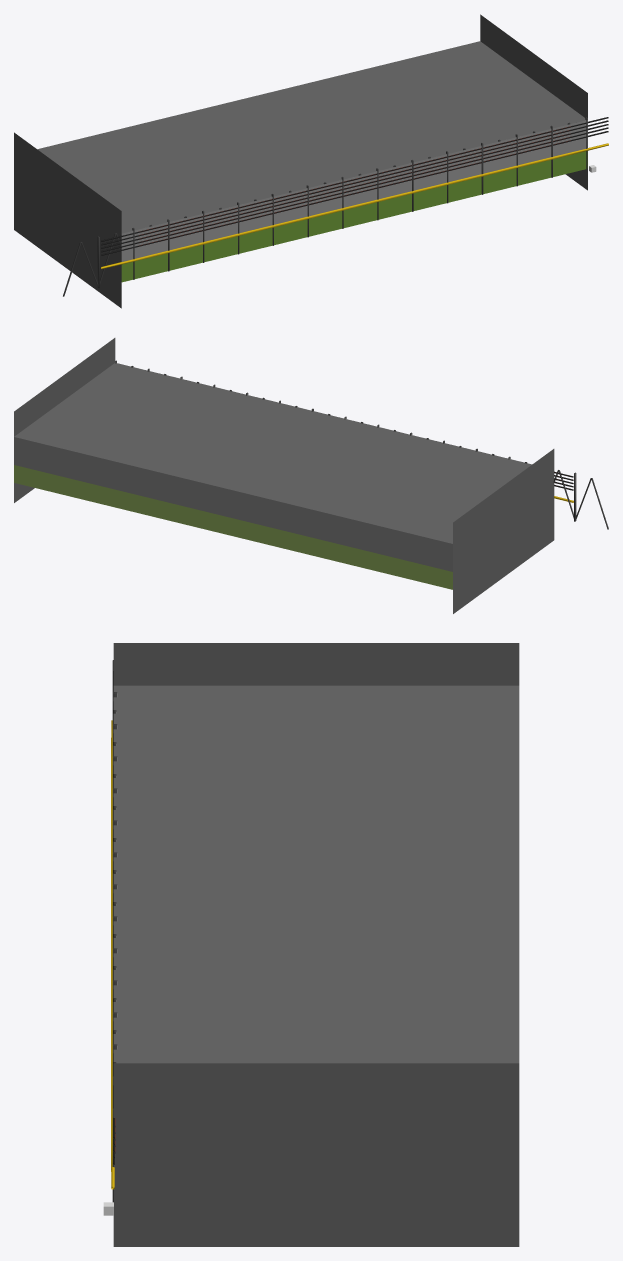
The model's file is factory.glb.
The picture shows the model from 3 angles, top to bottom: view 1: azimuth 30°, elevation 25°; view 2: azimuth 150°, elevation 25°; view 3: azimuth 270°, elevation 25°; orthographic projection. The views are drawn at different scales.
Parts seen in each view (by area): view 1: Roof, Wall, SideWallRight, Cube.003, SideWallLeft, Cube.001, Cube; view 2: Roof, BackWall, SideWallRight, SideWallLeft, Cube.001; view 3: Roof, SideWallLeft, SideWallRight, Cube.001, Cube.
Boxes of the visible parts, <box> form: Roof: <box>37,41,585,233</box>; Wall: <box>121,120,587,282</box>; SideWallRight: <box>14,132,121,308</box>; Cube.003: <box>101,117,608,255</box>; SideWallLeft: <box>480,14,587,190</box>; Cube.001: <box>63,117,587,296</box>; Cube: <box>101,143,608,268</box>; Roof: <box>14,363,531,543</box>; BackWall: <box>14,437,452,589</box>; SideWallRight: <box>453,449,554,613</box>; SideWallLeft: <box>14,338,115,502</box>; Cube.001: <box>115,360,608,529</box>; Roof: <box>113,685,519,1063</box>; SideWallLeft: <box>113,1063,519,1246</box>; SideWallRight: <box>113,643,519,685</box>; Cube.001: <box>112,660,117,1202</box>; Cube: <box>111,720,114,1189</box>.
Bounding box in the file's own units: 234 × 41.75 × 81.97.
3 materials, 3 textured.
